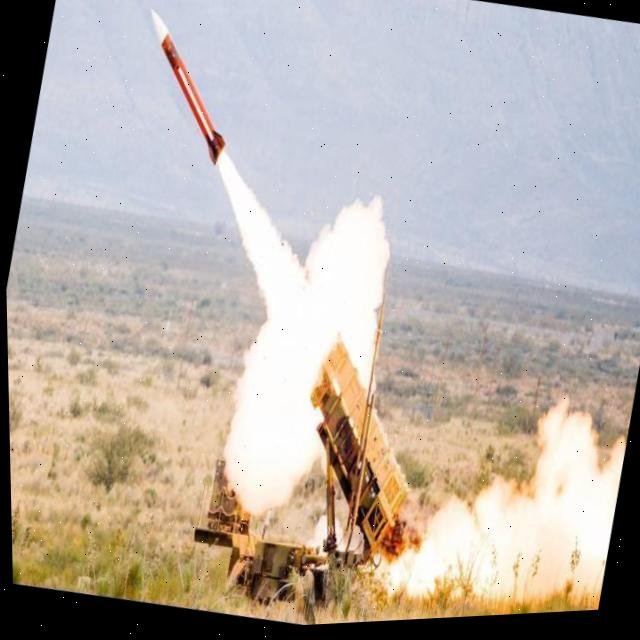missile: (114, 0, 256, 176)
